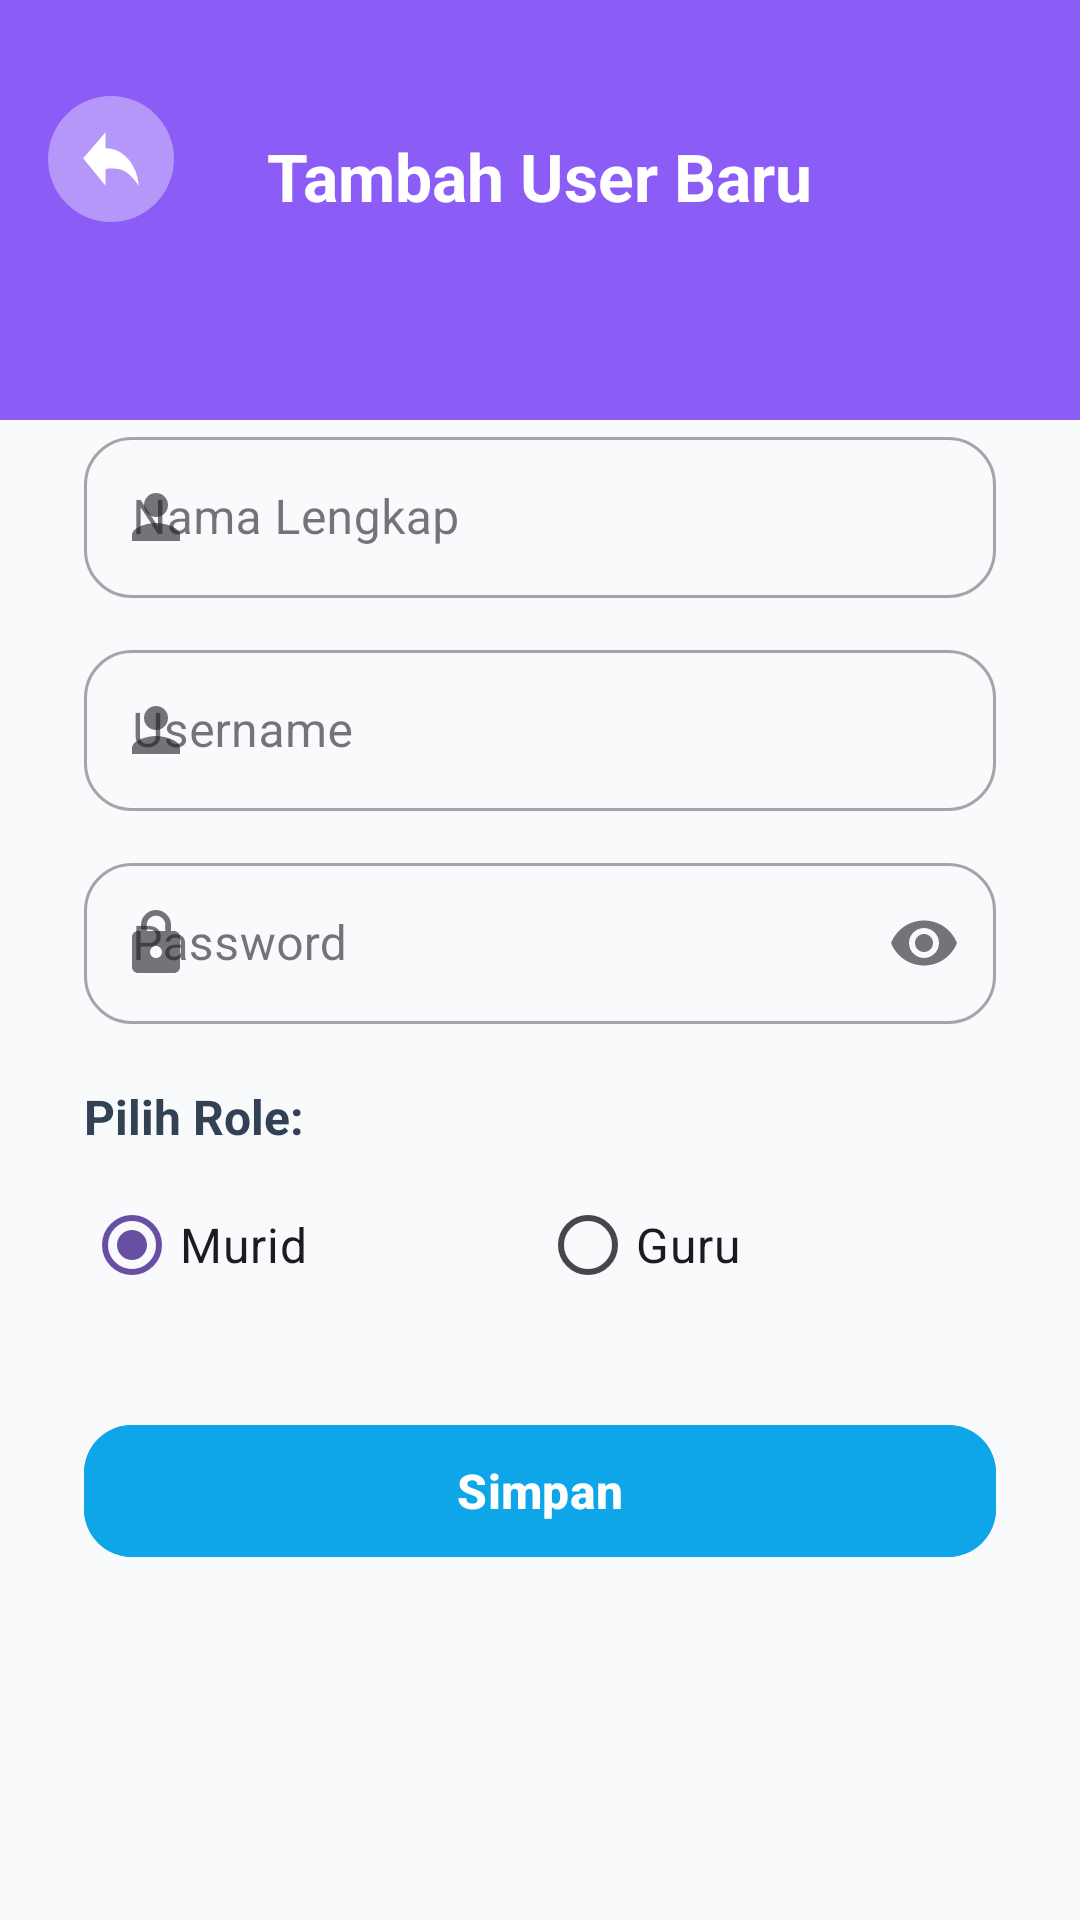

Named icons in this screenshot (1080w x 1920h) and their bounding boxes, (x1, y1, x2, y2):
back: (48, 96, 174, 222)
